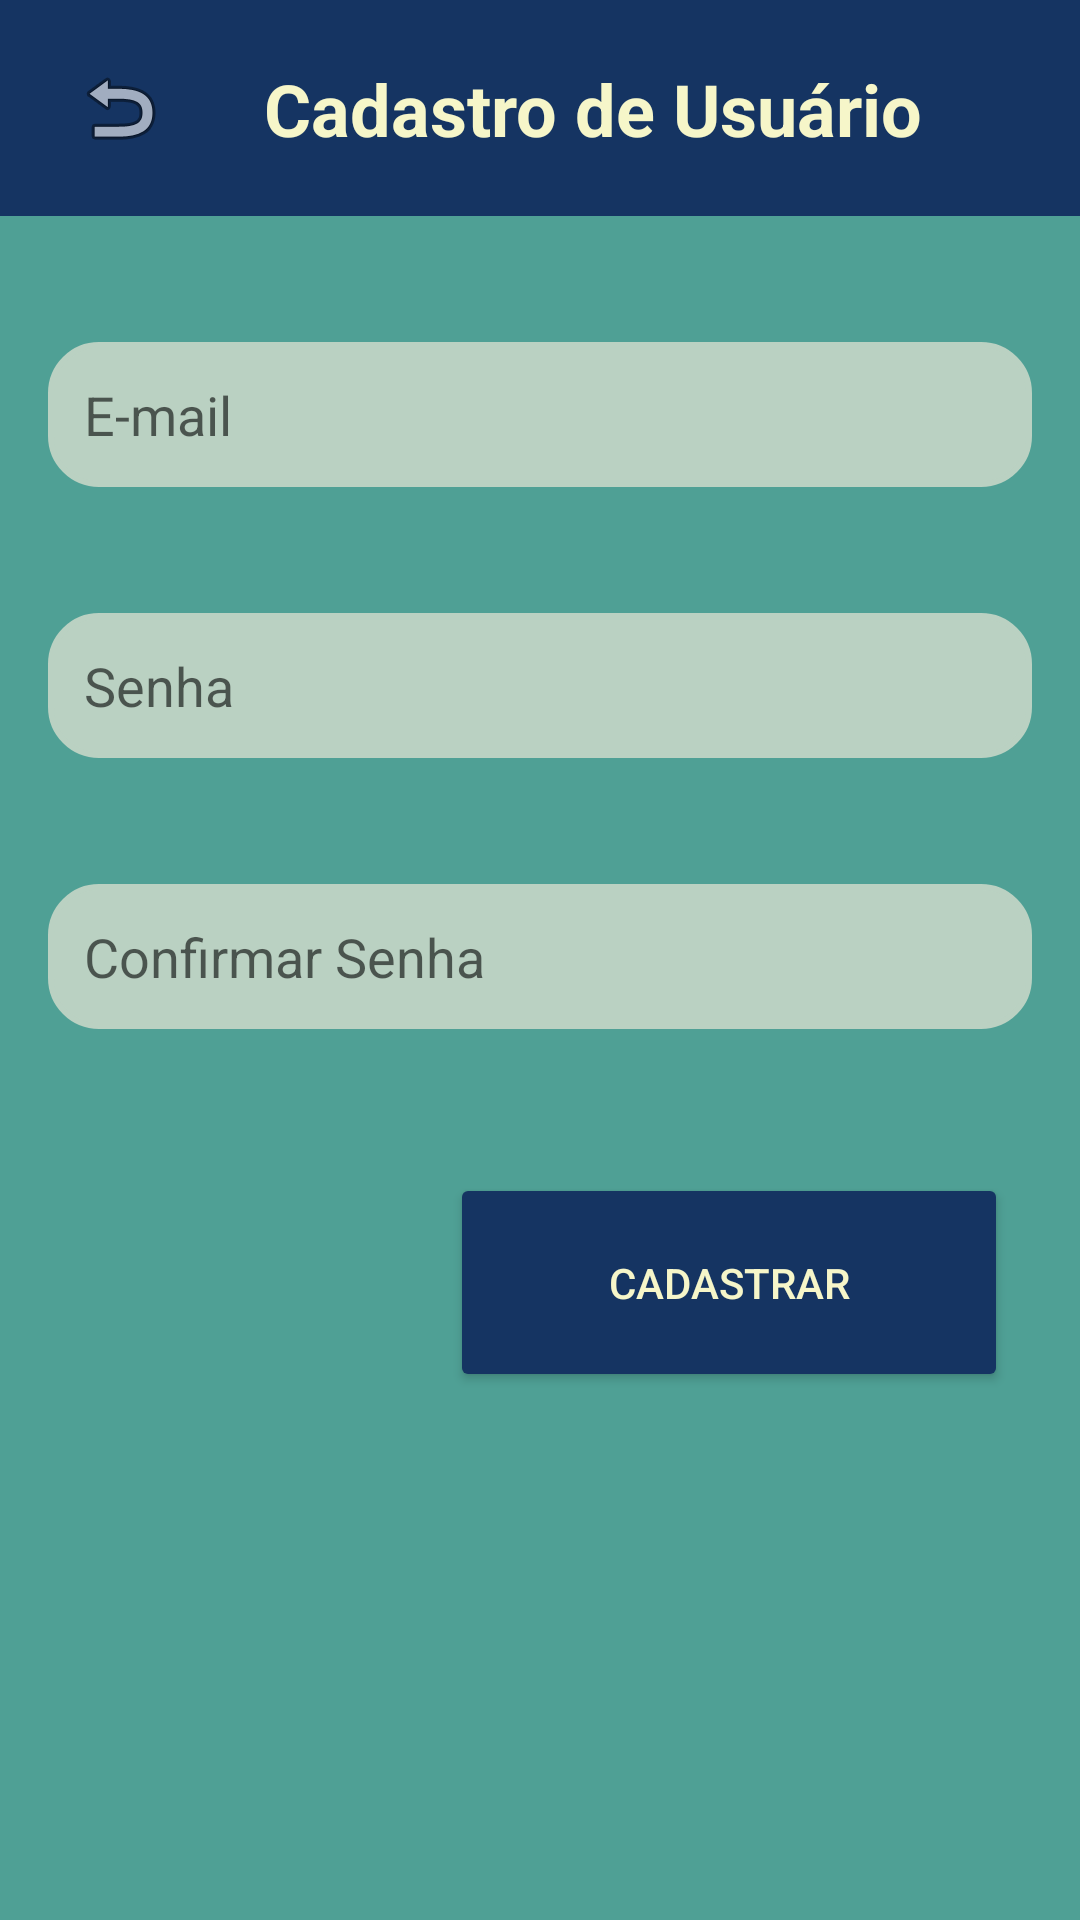

Where to tap for icons on this 1080 × 1920 app screen, as (x=x, y=y):
Voltar: (x=121, y=109)
